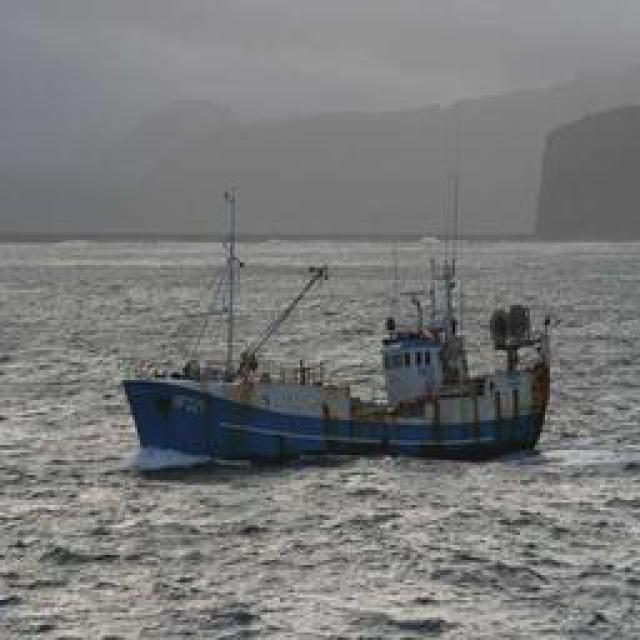Ship: (125, 294, 560, 464)
